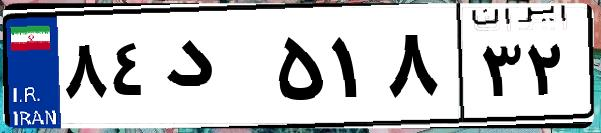1: (330, 28, 385, 110)
2: (525, 38, 570, 115)
3: (475, 38, 525, 113)
4: (110, 28, 158, 98)
5: (270, 28, 330, 110)
8: (385, 28, 445, 110), (57, 26, 110, 100)
د: (158, 20, 270, 120)
